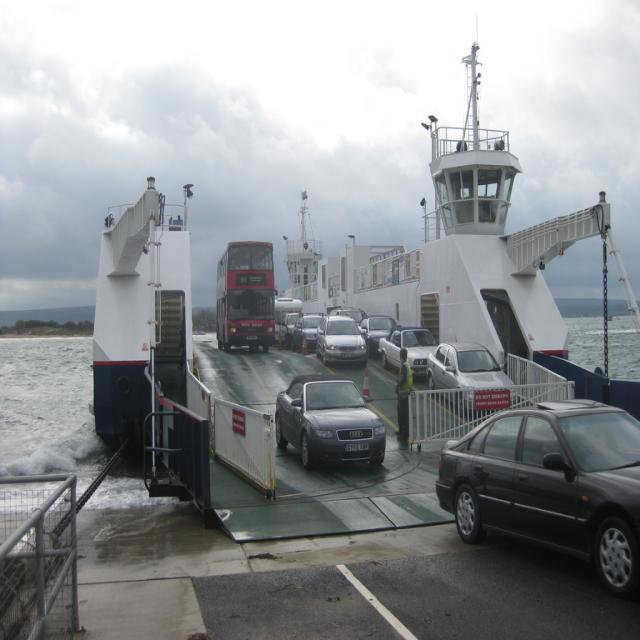car: (271, 375, 390, 469)
